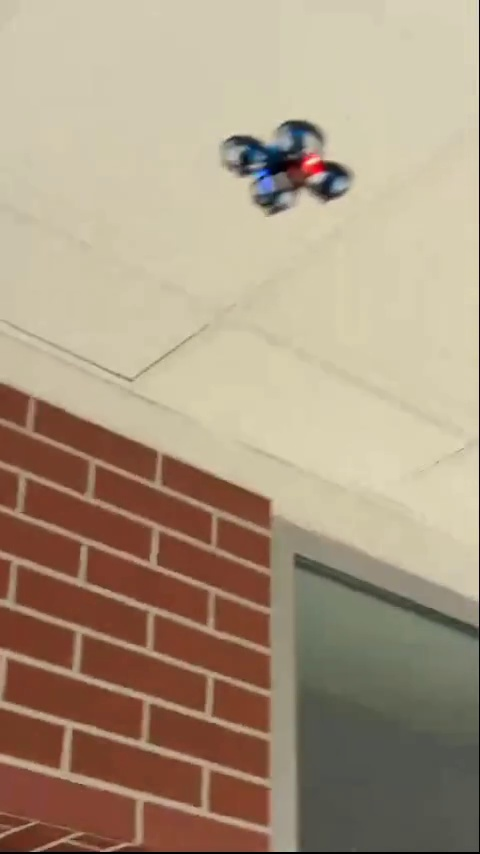drone: (219, 121, 355, 219)
